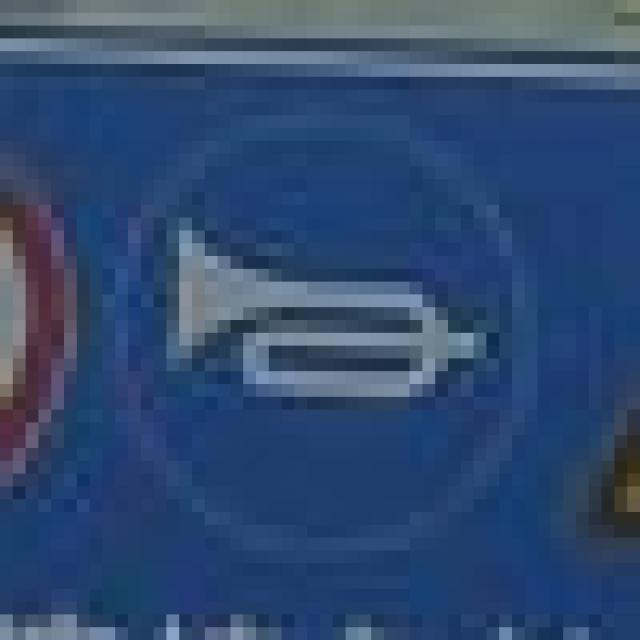COMPULSARY_SOUND_HORN: (128, 115, 512, 512)
